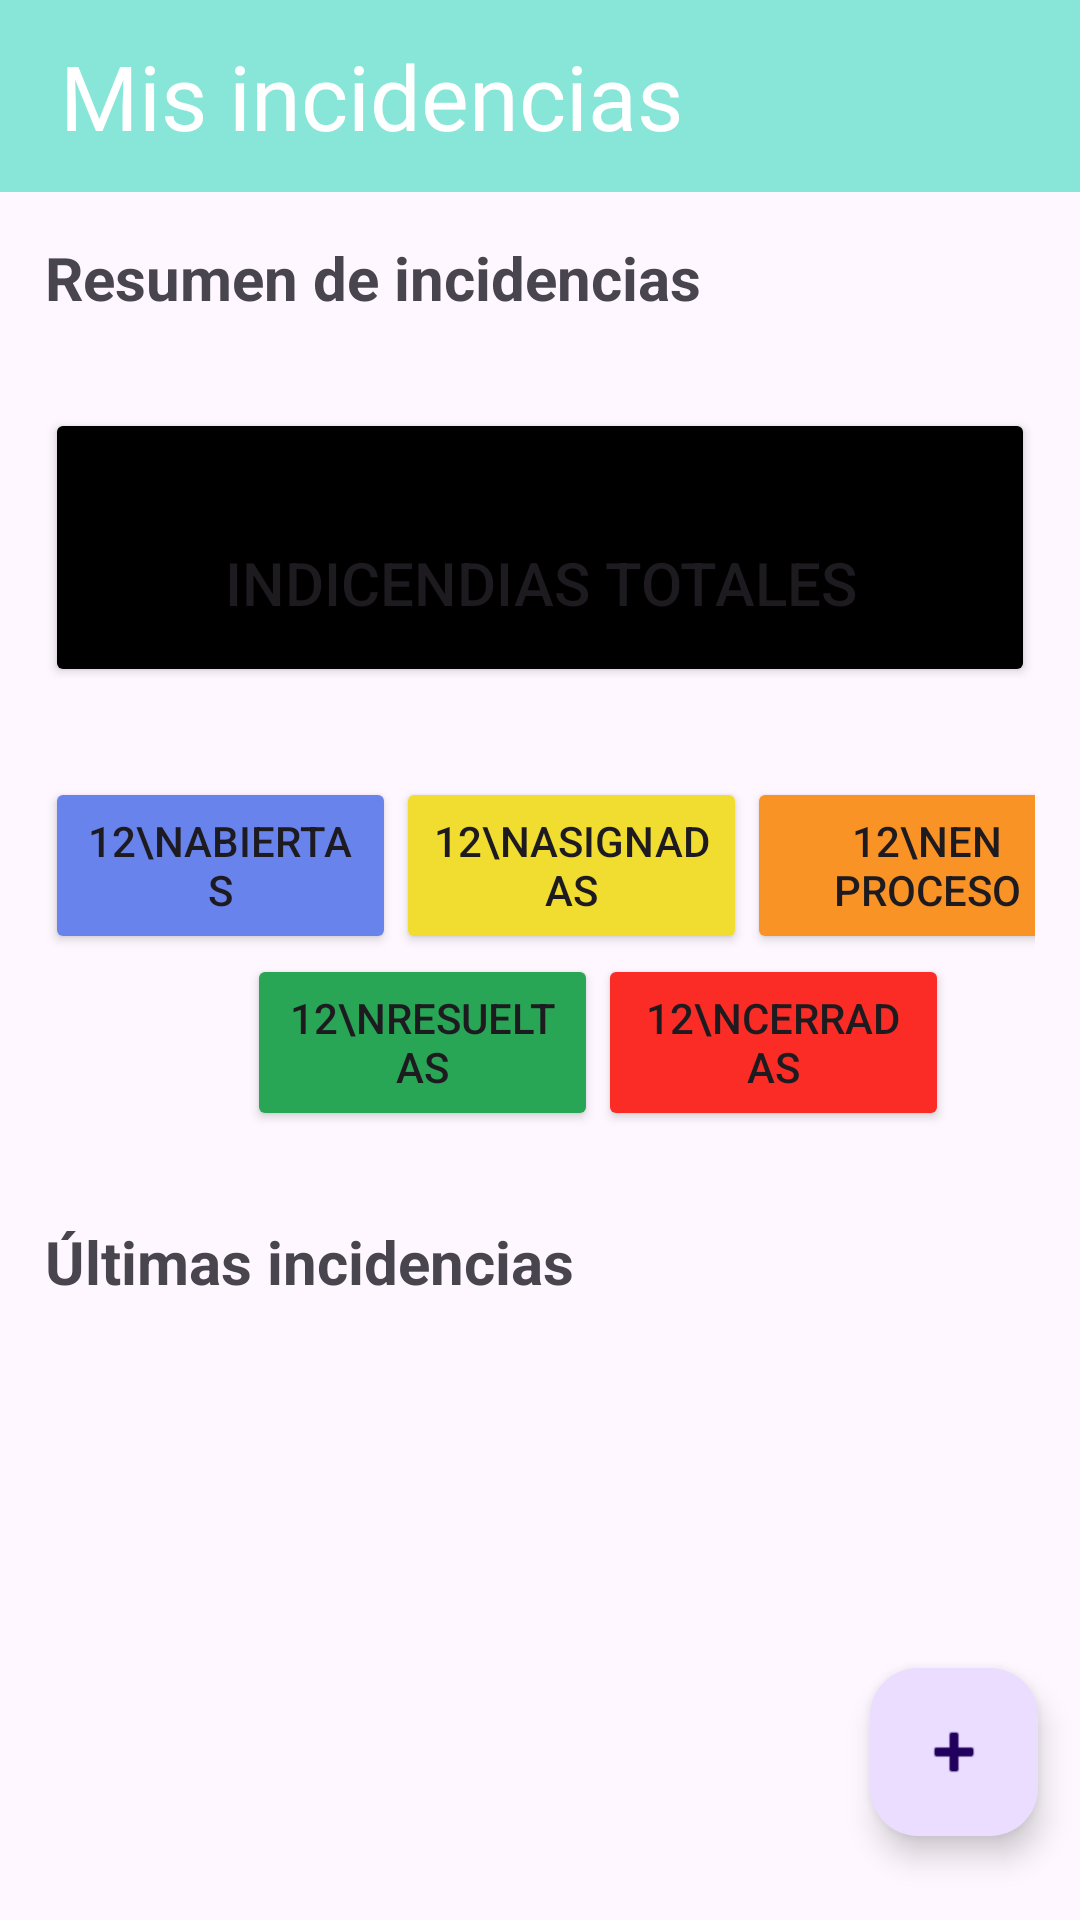

Where icons sit on this 1080 x 1920 app screen, as (x1, y1, x2, y2):
add: (870, 1668, 1038, 1836)
